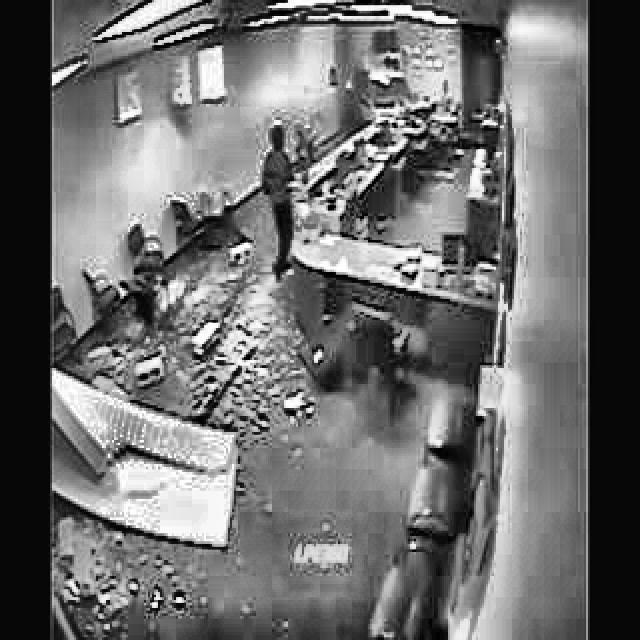burglary: (240, 111, 331, 288), (334, 36, 422, 149)
